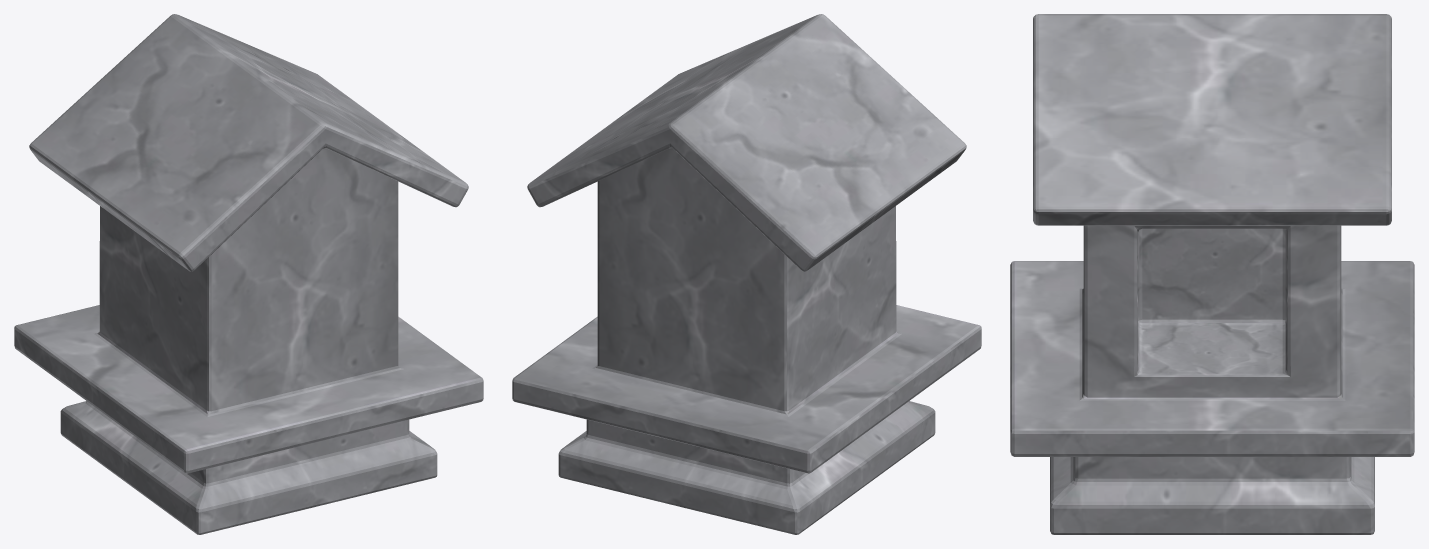
File: Shrine.fbx
3 renders of one model, left to right at view 1: azimuth 30°, elevation 25°; view 2: azimuth 150°, elevation 25°; view 3: azimuth 270°, elevation 25°, orthographic. The views are drawn at different scales.
Visible parts, largest first — view 1: Cube, Cube.001; view 2: Cube, Cube.001; view 3: Cube, Cube.001.
Boxes of the visible parts, box(x1,y1,x2,y2) form: Cube: box(14, 148, 483, 534); Cube.001: box(29, 14, 468, 271); Cube: box(512, 148, 981, 534); Cube.001: box(527, 14, 966, 271); Cube: box(1010, 225, 1414, 534); Cube.001: box(1033, 14, 1391, 225).
Size of the model in its own units: 199 by 246 by 199.
